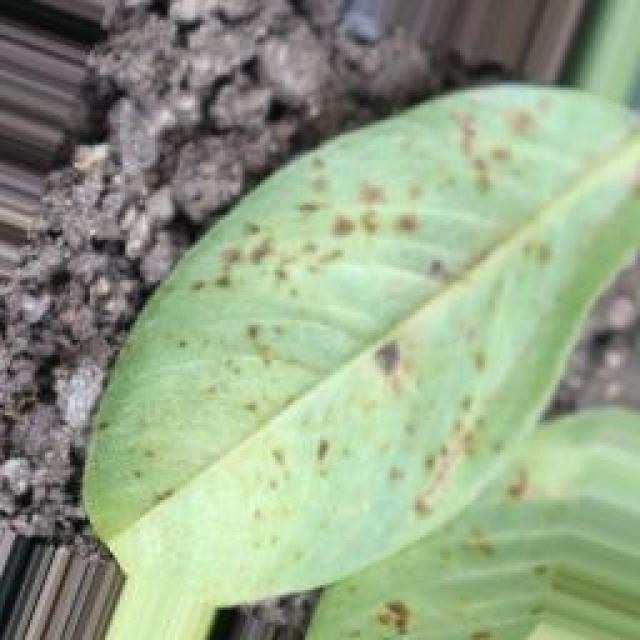Whitefly: (158, 108, 593, 596)
